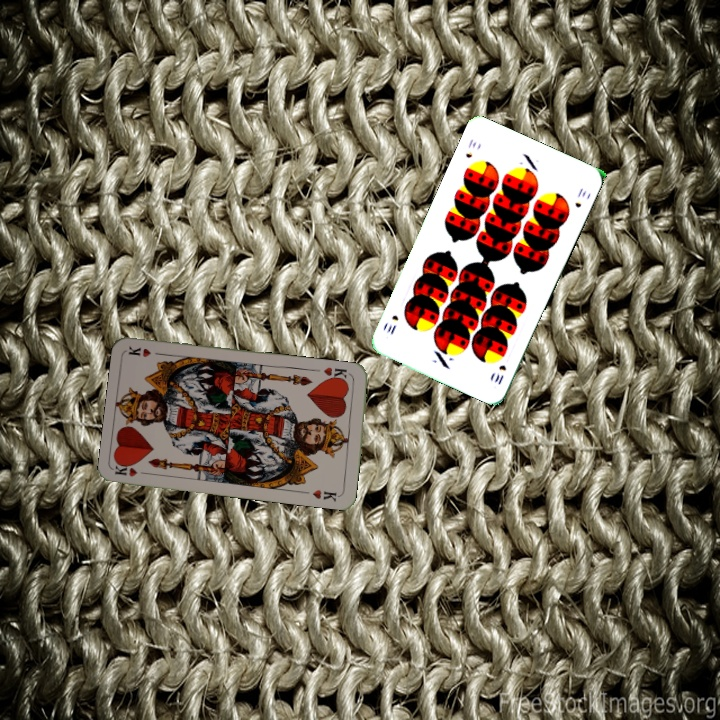HK: (112, 459, 153, 479), (319, 363, 354, 384)
S10: (490, 361, 509, 387), (462, 135, 479, 161)
